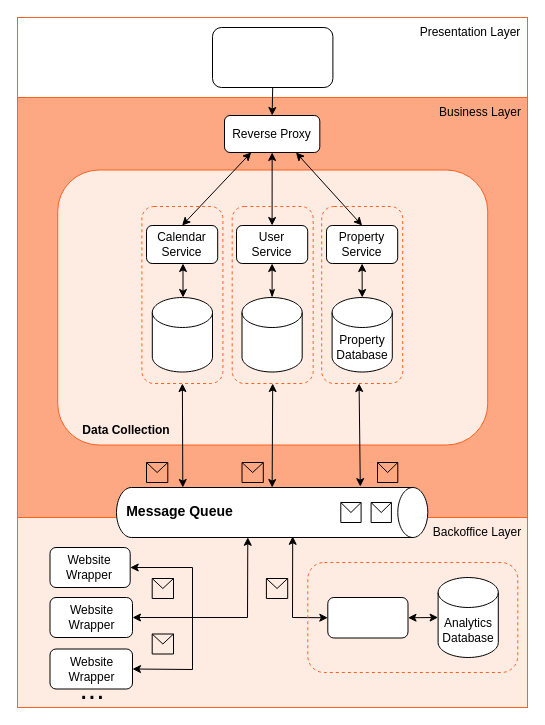
This 545x725 diagram has some shape labels left out. Each missing label, with the box of its shape:
Analytics Service: (327, 596, 408, 638)
Calendar Database: (151, 296, 212, 372)
Display Service: (212, 26, 333, 88)
User Database: (241, 296, 302, 372)
